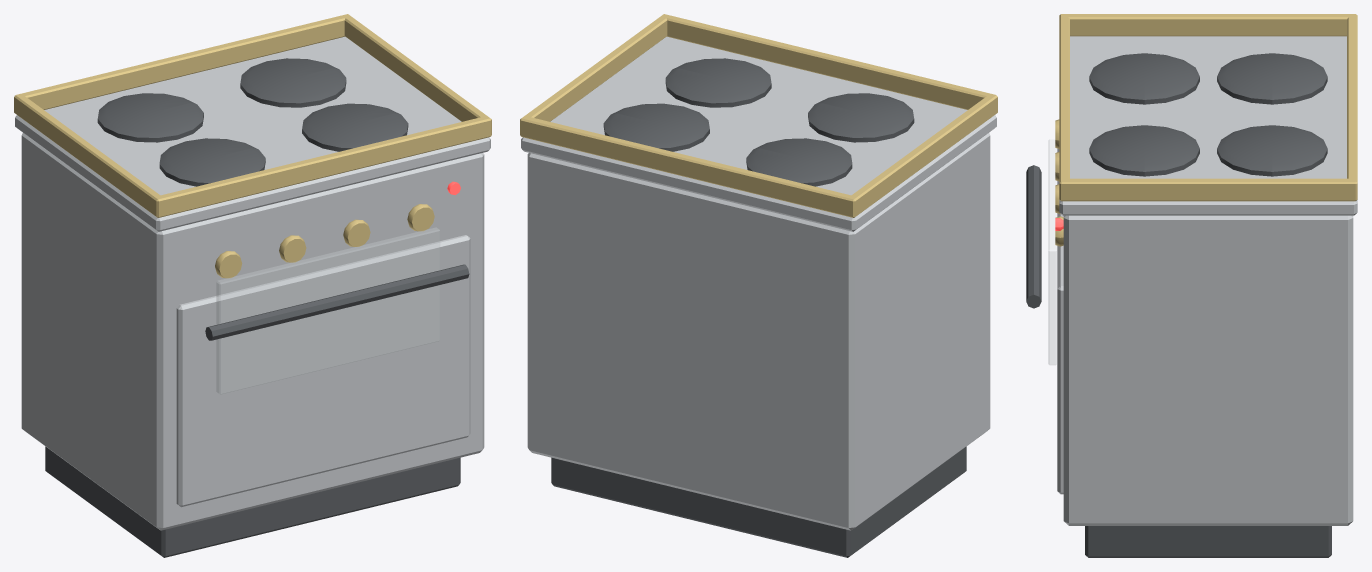
Rendered from submarine-interior-and-control-room-galley-range-4cfe0632__36499.glb.
3 views of the same model, side by side, from view 1: azimuth 30°, elevation 25°; view 2: azimuth 150°, elevation 25°; view 3: azimuth 270°, elevation 25° (orthographic). The views are drawn at different scales.
Visible parts, largest first — view 1: galley-range, door-oven/metal, door-oven/glass, door-oven/dark; view 2: galley-range; view 3: galley-range, door-oven/dark, door-oven/glass, door-oven/metal.
Boxes of the visible parts, bbox=[...] form: galley-range: bbox=[14, 14, 491, 557]; door-oven/metal: bbox=[176, 235, 470, 507]; door-oven/glass: bbox=[216, 227, 439, 394]; door-oven/dark: bbox=[205, 264, 469, 340]; galley-range: bbox=[520, 14, 997, 557]; galley-range: bbox=[1055, 14, 1357, 557]; door-oven/dark: bbox=[1026, 165, 1041, 308]; door-oven/glass: bbox=[1048, 139, 1056, 364]; door-oven/metal: bbox=[1057, 148, 1063, 494].
Size of the model in its own units: 0.941 by 1 by 0.7786.
